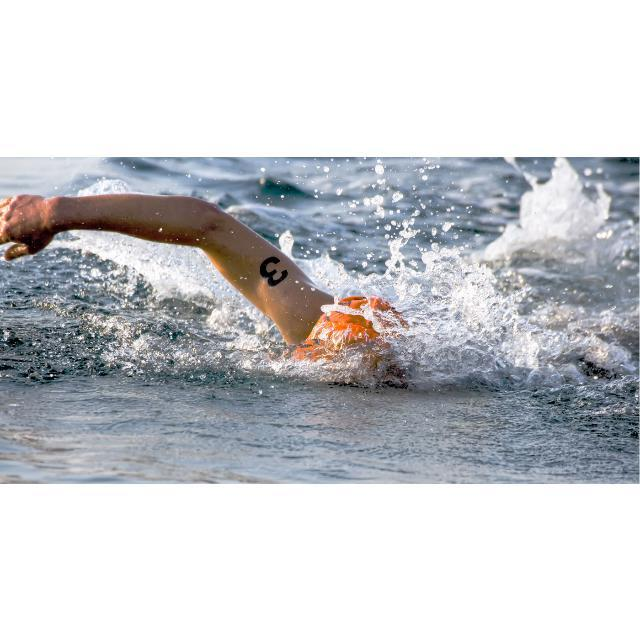human: (1, 180, 440, 397)
